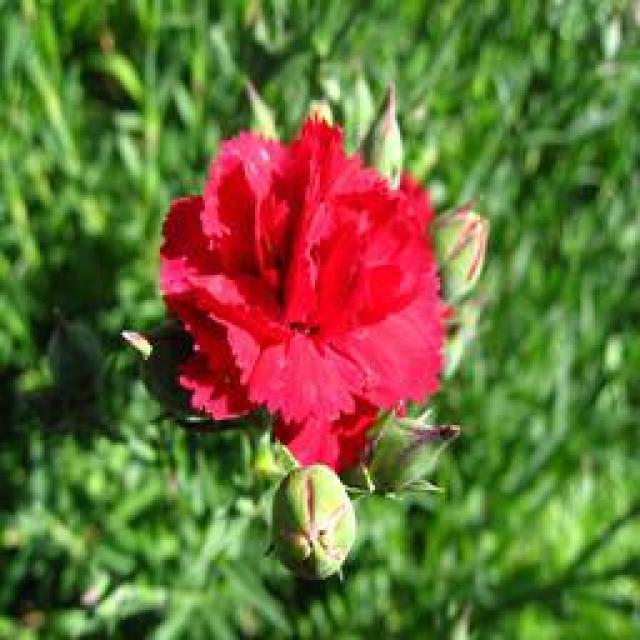carnation: (131, 140, 469, 458)
